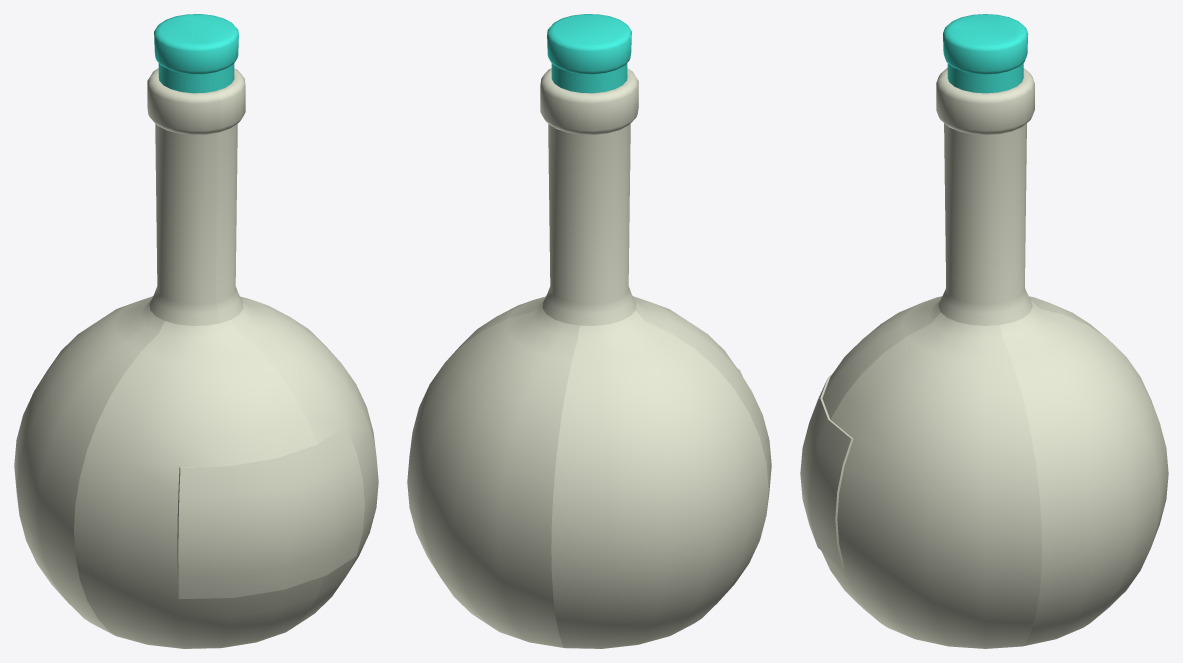
3 renders of one model, left to right at view 1: azimuth 30°, elevation 25°; view 2: azimuth 150°, elevation 25°; view 3: azimuth 270°, elevation 25°, orthographic.
Parts seen in each view (by area): view 1: split_parent_0, defaultMaterial.003; view 2: split_parent_0, defaultMaterial.003; view 3: split_parent_0, defaultMaterial.003.
Boxes of the visible parts, left/top/right/bottom form: split_parent_0: left=14, top=68, right=378, bottom=648; defaultMaterial.003: left=154, top=14, right=238, bottom=93; split_parent_0: left=407, top=68, right=771, bottom=648; defaultMaterial.003: left=547, top=14, right=631, bottom=93; split_parent_0: left=800, top=68, right=1168, bottom=648; defaultMaterial.003: left=943, top=14, right=1028, bottom=93.
Size of the model in its own units: 0.5836 by 1 by 0.5869.
